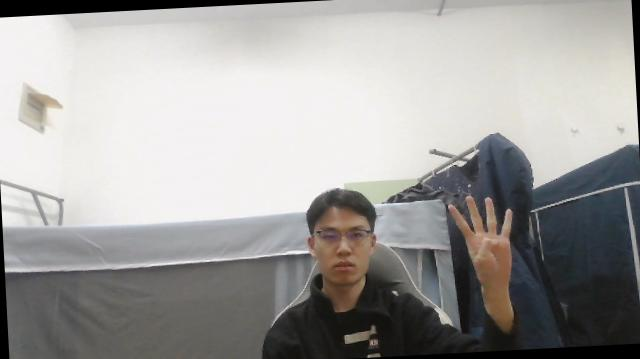four: (446, 191, 516, 292)
